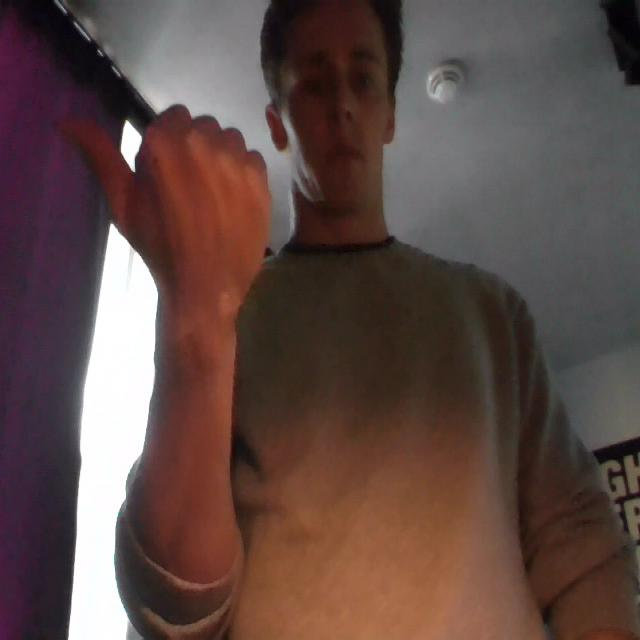left: (43, 98, 282, 320)
